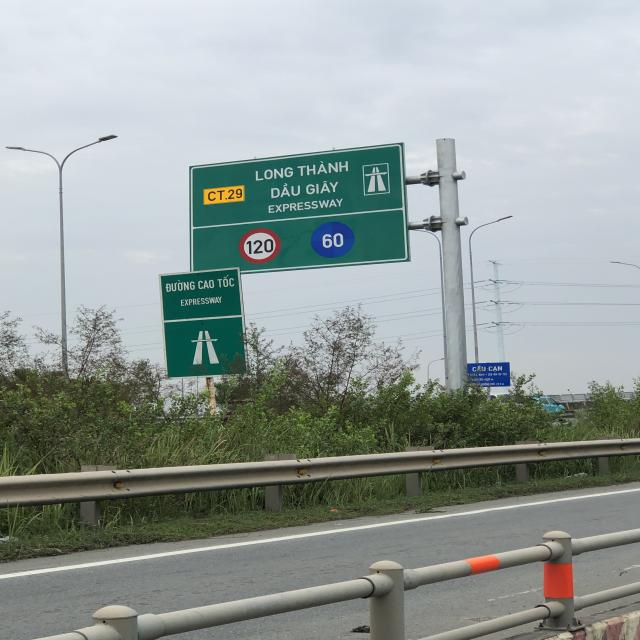Bien bao toc do toi thieu cho phep: (310, 220, 360, 259)
